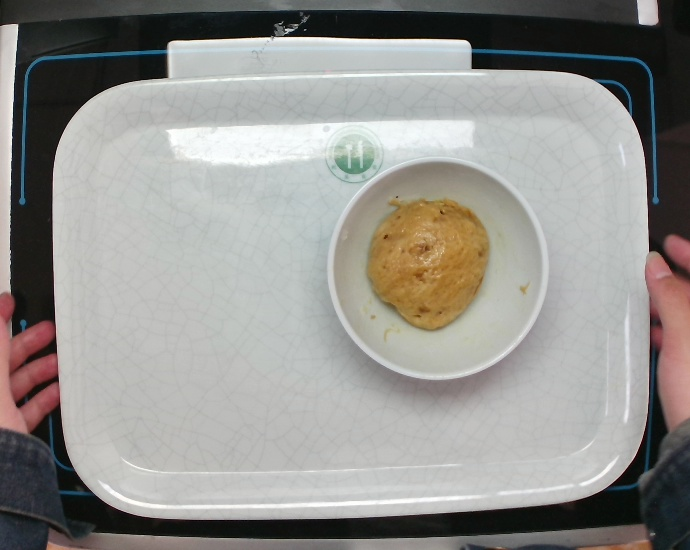JYsf-Fan_Wan: (323, 153, 553, 384)
